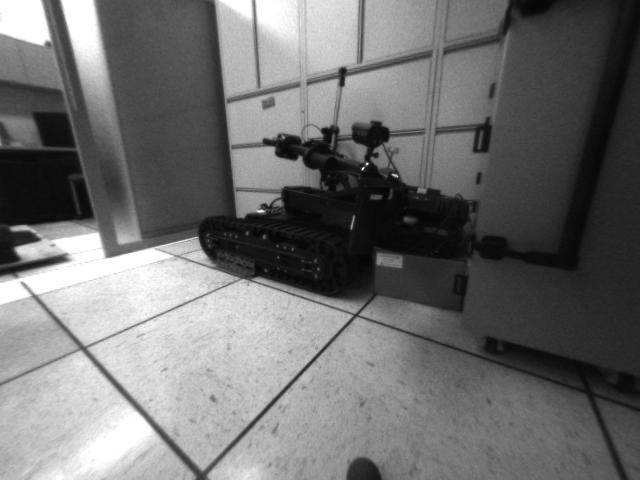dogtoy: (339, 453, 387, 480)
